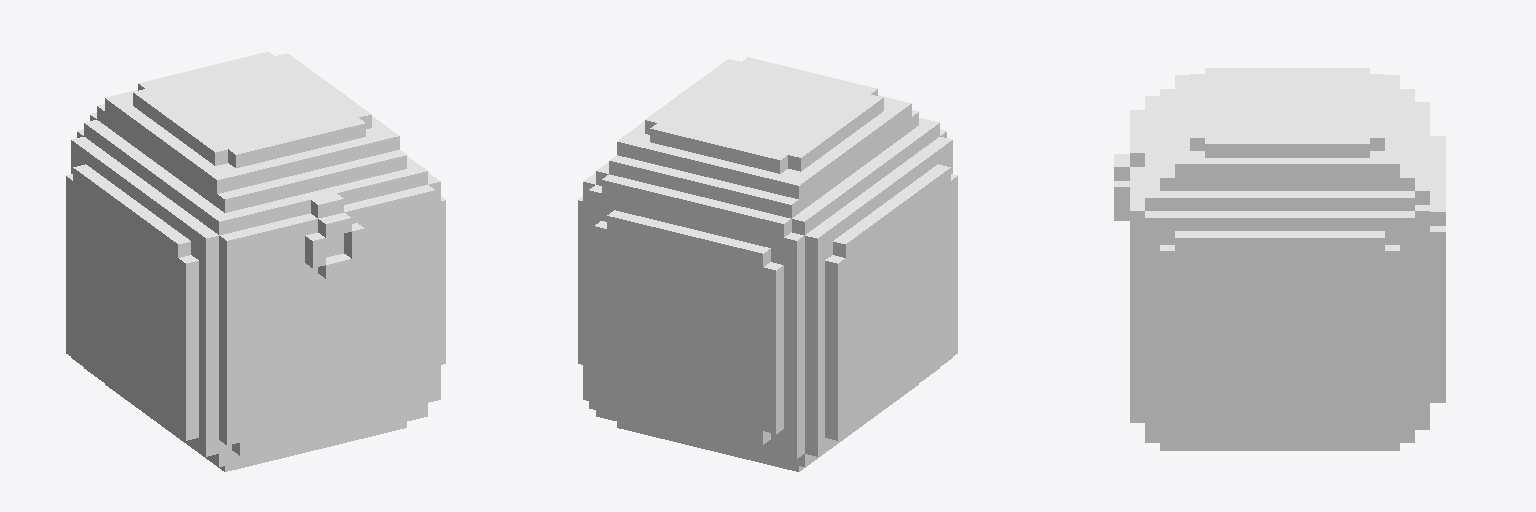
Rendered from Baú.obj.
The picture shows the model from 3 angles: view 1: azimuth 30°, elevation 25°; view 2: azimuth 150°, elevation 25°; view 3: azimuth 270°, elevation 25°; orthographic projection.
Parts seen in each view (by area): view 1: object 1; view 2: object 1; view 3: object 1.
Part boxes in pixels (left/top/right/bottom): object 1: left=66, top=52, right=445, bottom=471; object 1: left=578, top=57, right=957, bottom=471; object 1: left=1114, top=68, right=1445, bottom=450.
Bounding box in the file's own units: 2 × 2.2 × 2.2.